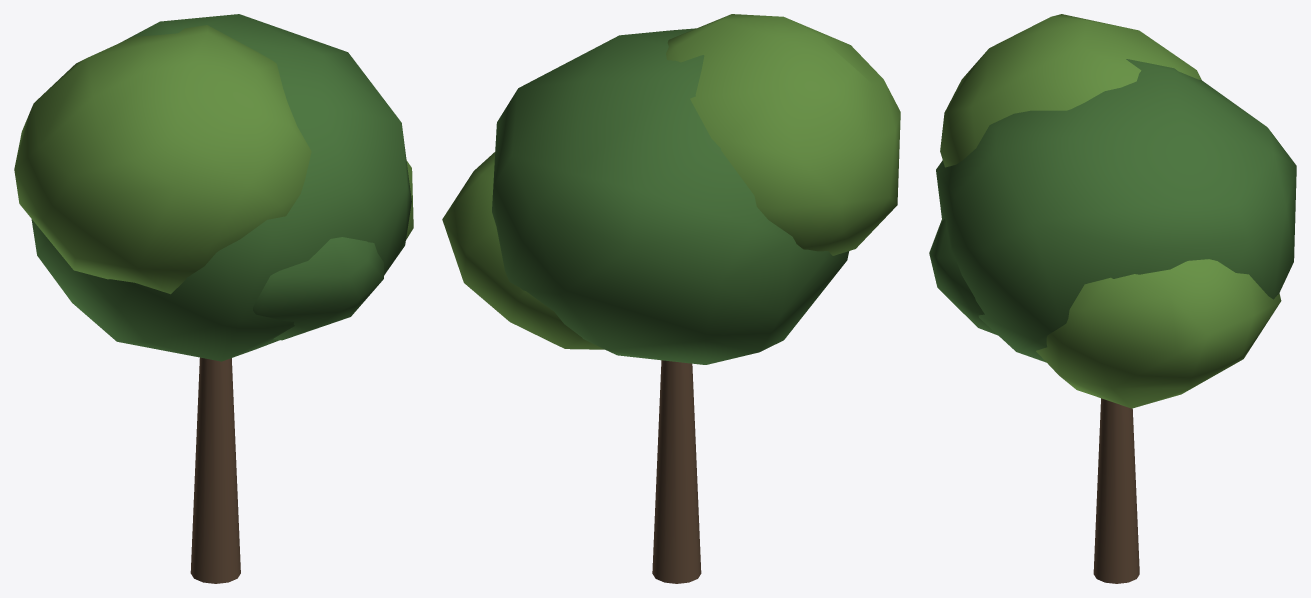
File: tree.glb
The picture shows the model from 3 angles, left to right: view 1: azimuth 30°, elevation 25°; view 2: azimuth 150°, elevation 25°; view 3: azimuth 270°, elevation 25°; orthographic projection. The views are drawn at different scales.
Parts seen in each view (by area): view 1: Canopy_1, Canopy_0, Trunk; view 2: Canopy_0, Canopy_1, Trunk; view 3: Canopy_0, Canopy_1, Trunk.
Boxes of the visible parts, left/top/right/bottom form: Canopy_1: left=14, top=25, right=413, bottom=294; Canopy_0: left=31, top=14, right=411, bottom=361; Trunk: left=190, top=357, right=240, bottom=583; Canopy_0: left=492, top=28, right=849, bottom=364; Canopy_1: left=442, top=14, right=900, bottom=349; Trunk: left=652, top=360, right=701, bottom=583; Canopy_0: left=929, top=59, right=1296, bottom=362; Canopy_1: left=940, top=14, right=1281, bottom=408; Trunk: left=1093, top=398, right=1139, bottom=583.
Bounding box in the file's own units: 3.65 × 4.93 × 3.18.
